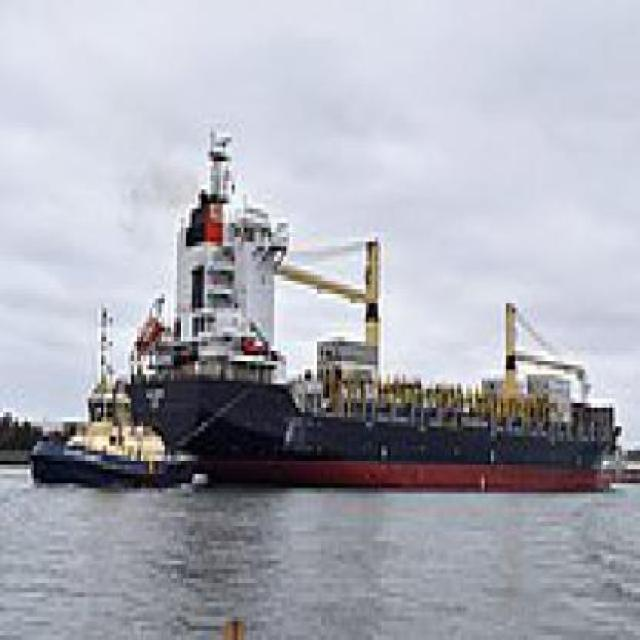container: (123, 115, 626, 518)
